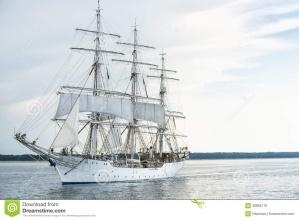fanchuan: (10, 1, 188, 184)
